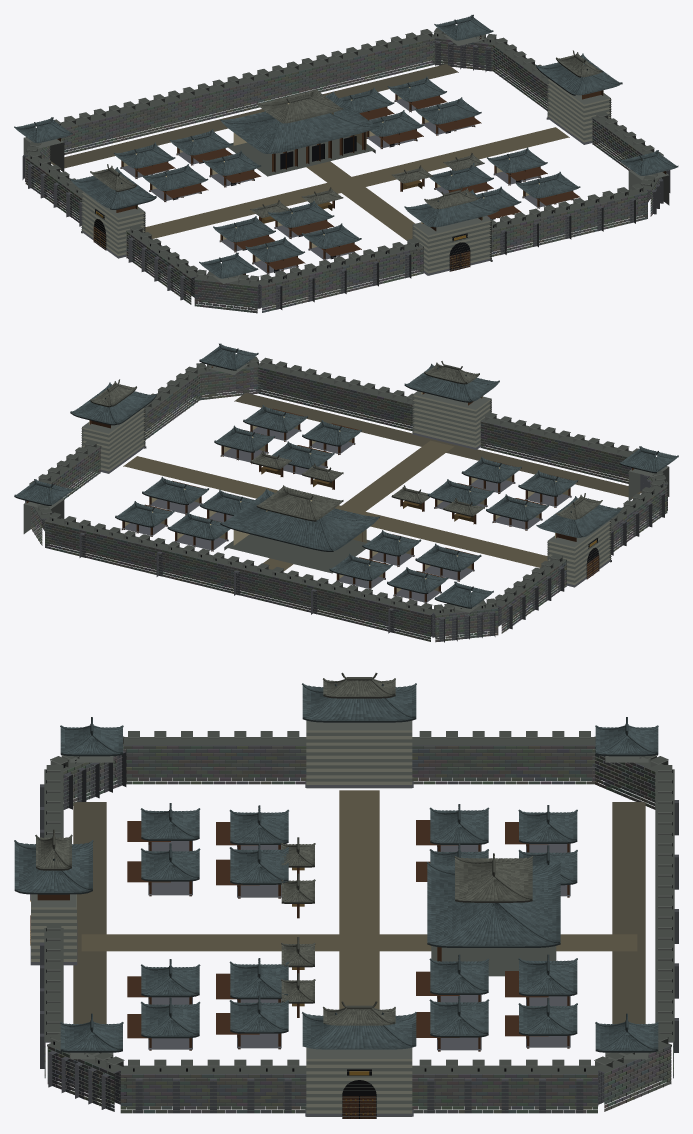
File: TRB8-CITY-PASS-001-v8.glb
3 views of the same model, one above another, from view 1: azimuth 30°, elevation 25°; view 2: azimuth 150°, elevation 25°; view 3: azimuth 270°, elevation 25° (orthographic). The views are drawn at different scales.
Visible parts, largest first — view 1: TRB8-CITY-PASS-001-v8; view 2: TRB8-CITY-PASS-001-v8; view 3: TRB8-CITY-PASS-001-v8.
Boxes of the visible parts, x1,y1,x2,y2 form: TRB8-CITY-PASS-001-v8: (14, 14, 678, 313); TRB8-CITY-PASS-001-v8: (14, 343, 678, 642); TRB8-CITY-PASS-001-v8: (14, 672, 678, 1118).
Size of the model in its own units: 30.87 by 4.34 by 23.94.
